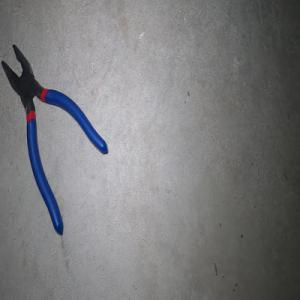Pliers: (1, 43, 107, 235)
